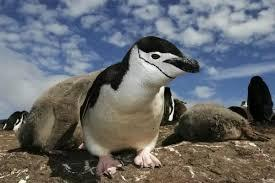chinstrap: (60, 28, 205, 173)
